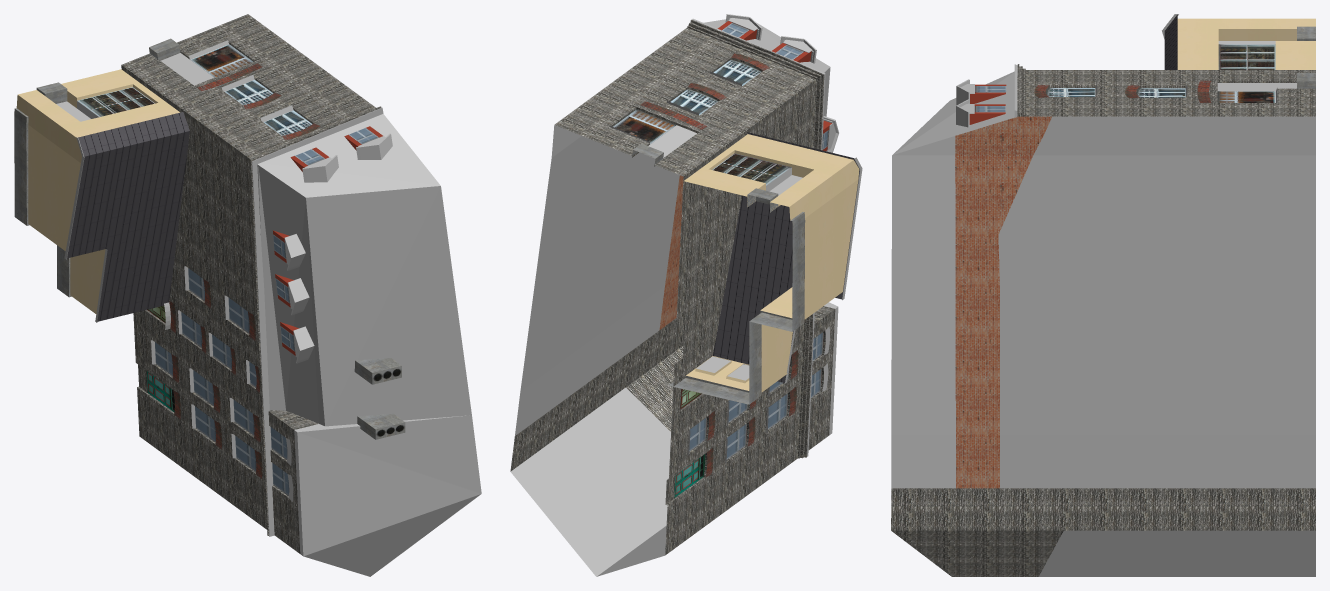
Rendered from Nunne_11a.obj.
The picture shows the model from 3 angles, left to right: view 1: azimuth 30°, elevation 25°; view 2: azimuth 150°, elevation 25°; view 3: azimuth 270°, elevation 25°; orthographic projection. The views are drawn at different scales.
Visible parts, largest first — view 1: Nunne_11a; view 2: Nunne_11a; view 3: Nunne_11a.
Part boxes in pixels (x1,y1,x2,y2): Nunne_11a: (14,14,481,576); Nunne_11a: (510,14,862,576); Nunne_11a: (891,14,1315,576).
Size of the model in its own units: 13.6 by 20.59 by 16.23.
